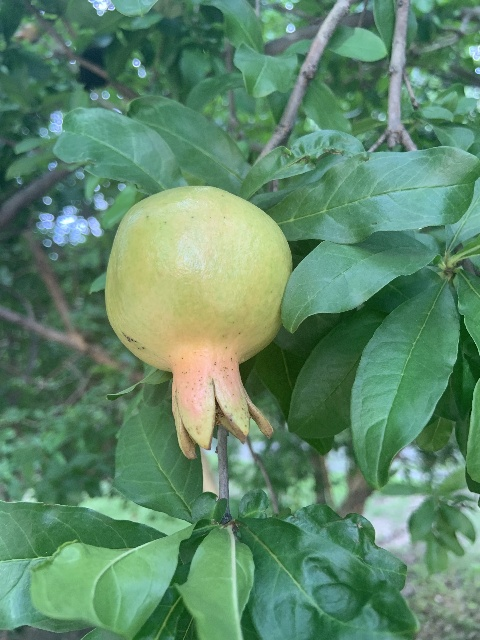mid-growth: (104, 186, 291, 458)
